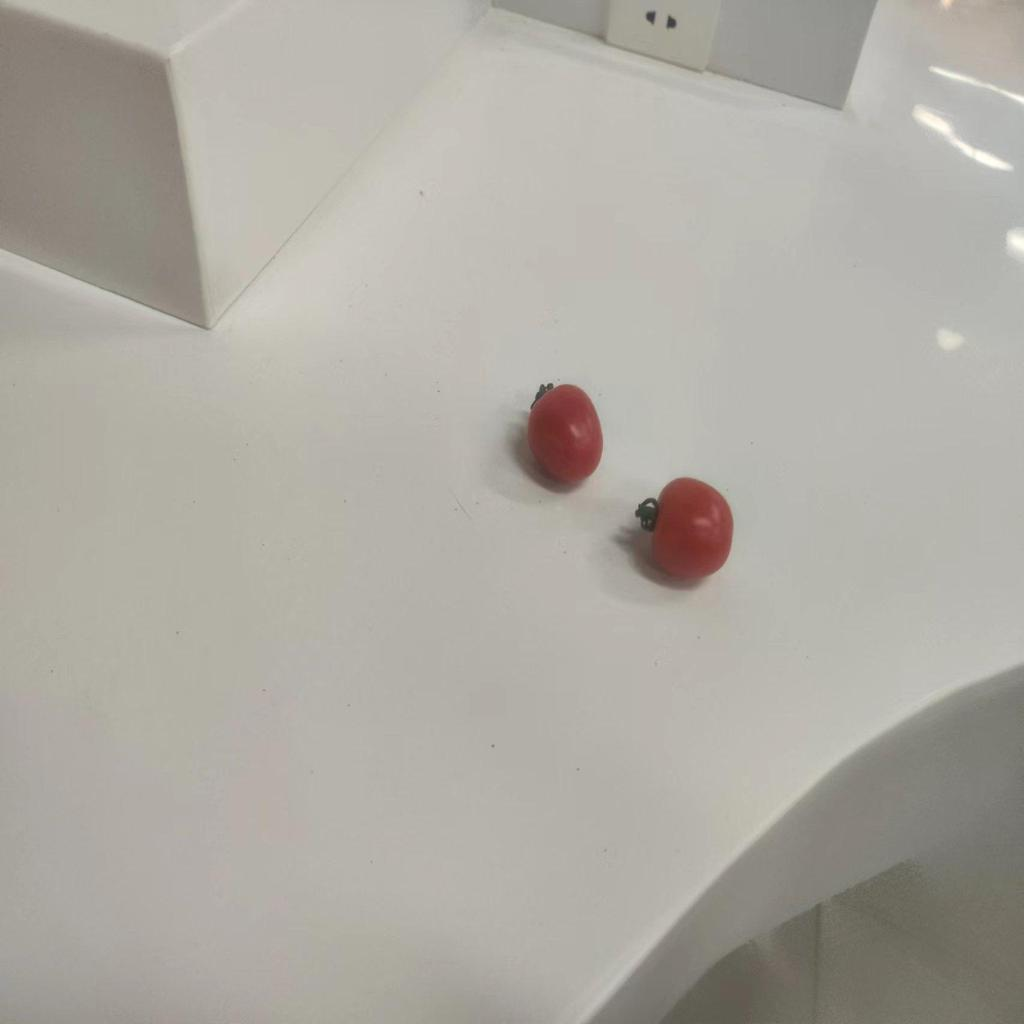tomato: (515, 378, 610, 483), (640, 478, 736, 577)
